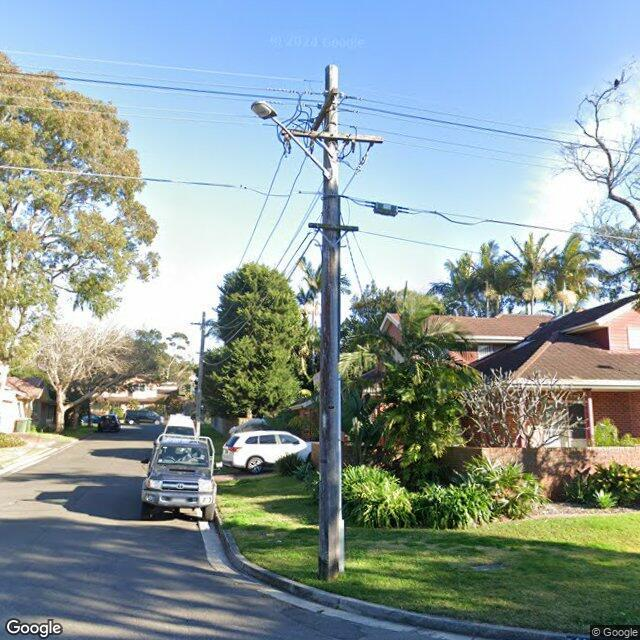crossarm: (280, 126, 385, 144), (310, 89, 340, 131), (190, 322, 217, 326)
streetlight: (251, 100, 333, 180)
timber-pole: (317, 64, 346, 576), (194, 312, 206, 438)
